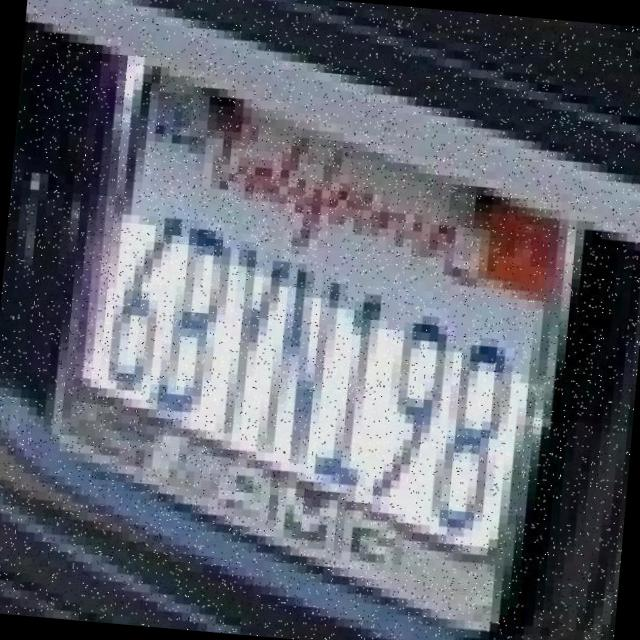LicensePlate: (12, 8, 623, 640)
